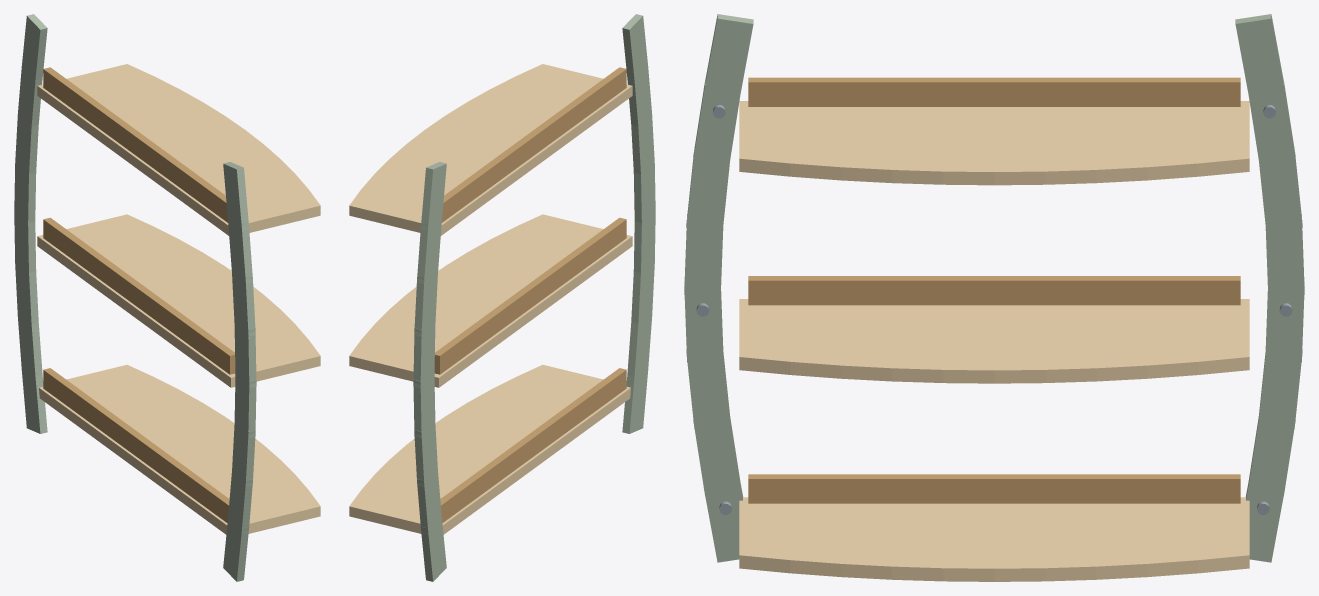
The model's file is etagere.glb.
The picture shows the model from 3 angles, left to right: view 1: azimuth 30°, elevation 25°; view 2: azimuth 150°, elevation 25°; view 3: azimuth 270°, elevation 25°; orthographic projection. The views are drawn at different scales.
Visible parts, largest first — view 1: etagere; view 2: etagere; view 3: etagere.
Part boxes in pixels (x1=…): etagere: x1=14, y1=14, x2=320, y2=581; etagere: x1=349, y1=14, x2=655, y2=581; etagere: x1=684, y1=14, x2=1304, y2=581.
Bounding box in the file's own units: 0.189 × 0.6584 × 0.6804.
